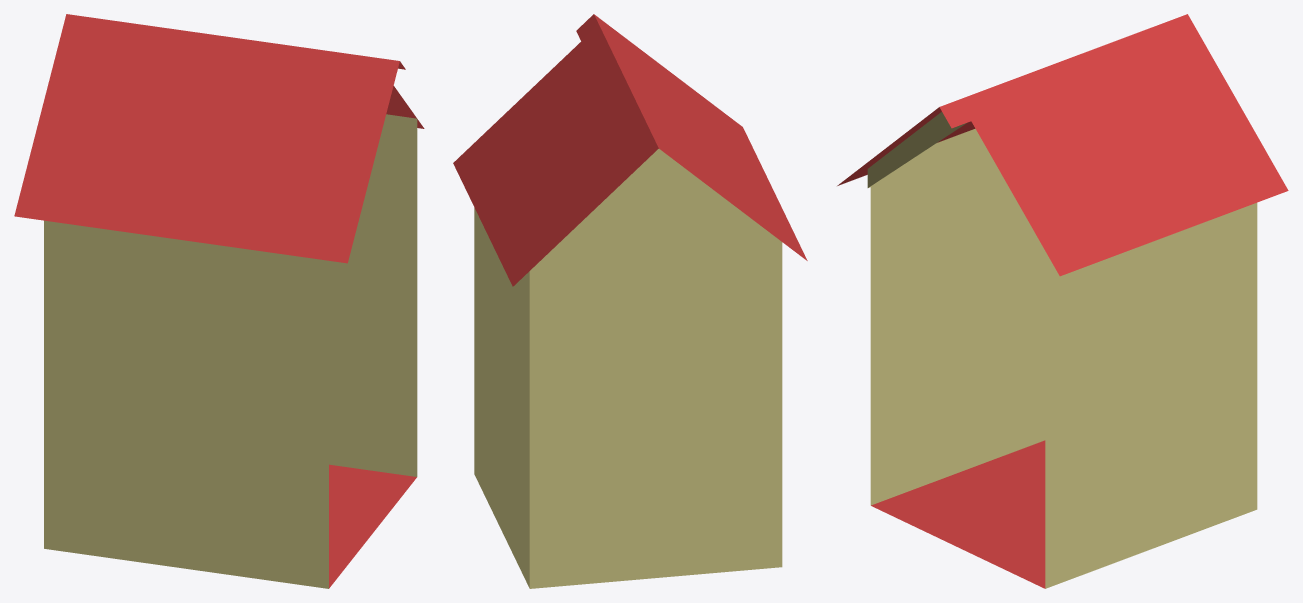
3 views of the same model, side by side, from view 1: azimuth 30°, elevation 25°; view 2: azimuth 150°, elevation 25°; view 3: azimuth 270°, elevation 25° (orthographic). The views are drawn at different scales.
Size of the model in its own units: 9.78 by 10.22 by 11.17.
